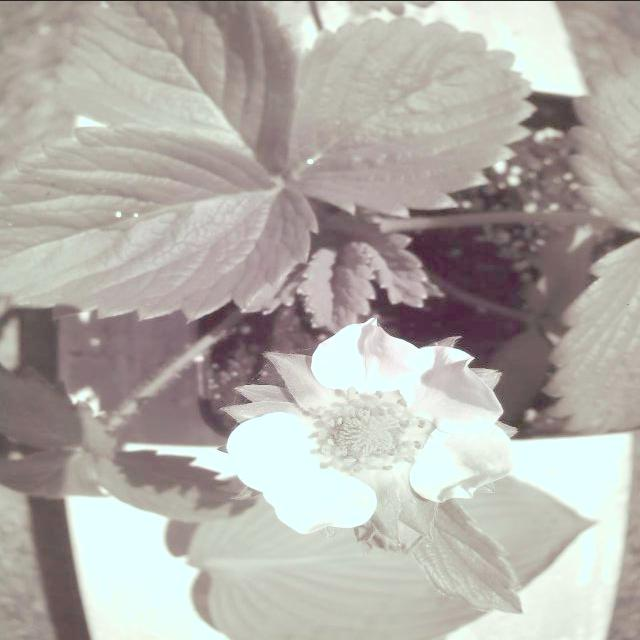flower: (218, 316, 519, 538)
